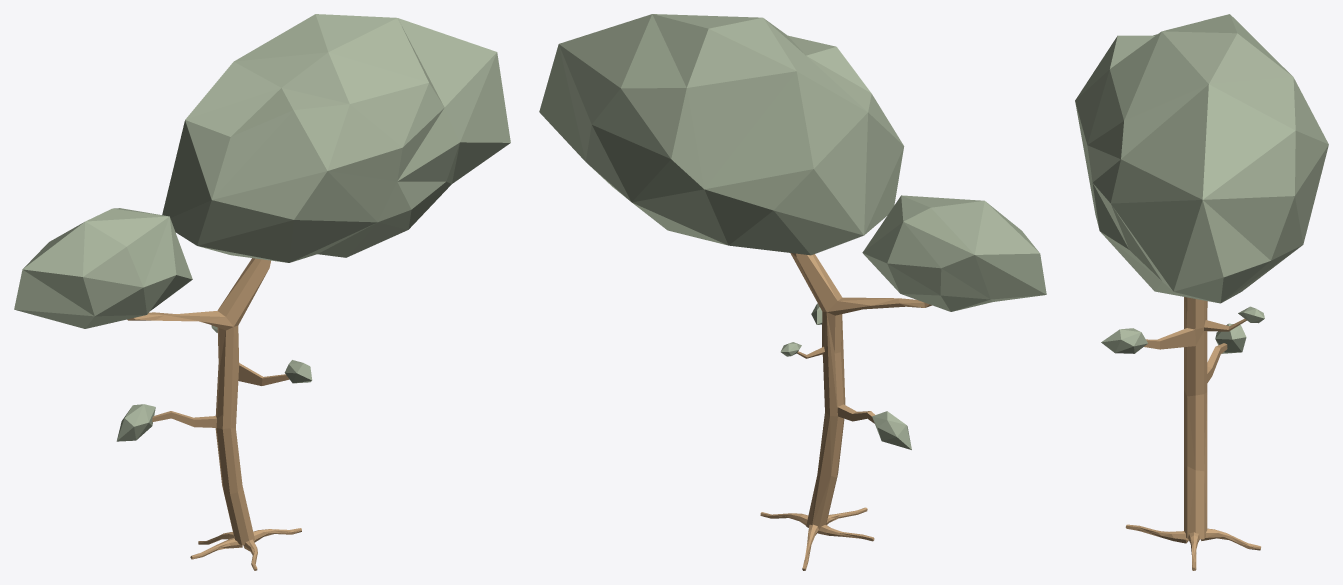
File: Environment_Tree.fbx
The picture shows the model from 3 angles, left to right: view 1: azimuth 30°, elevation 25°; view 2: azimuth 150°, elevation 25°; view 3: azimuth 270°, elevation 25°; orthographic projection. The views are drawn at different scales.
Visible parts, largest first — view 1: Tree; view 2: Tree; view 3: Tree.
Boxes of the visible parts, x1=… form: Tree: x1=14, y1=14, x2=510, y2=570; Tree: x1=539, y1=14, x2=1046, y2=570; Tree: x1=1075, y1=14, x2=1328, y2=570.
Size of the model in its own units: 1268 by 1248 by 500.
